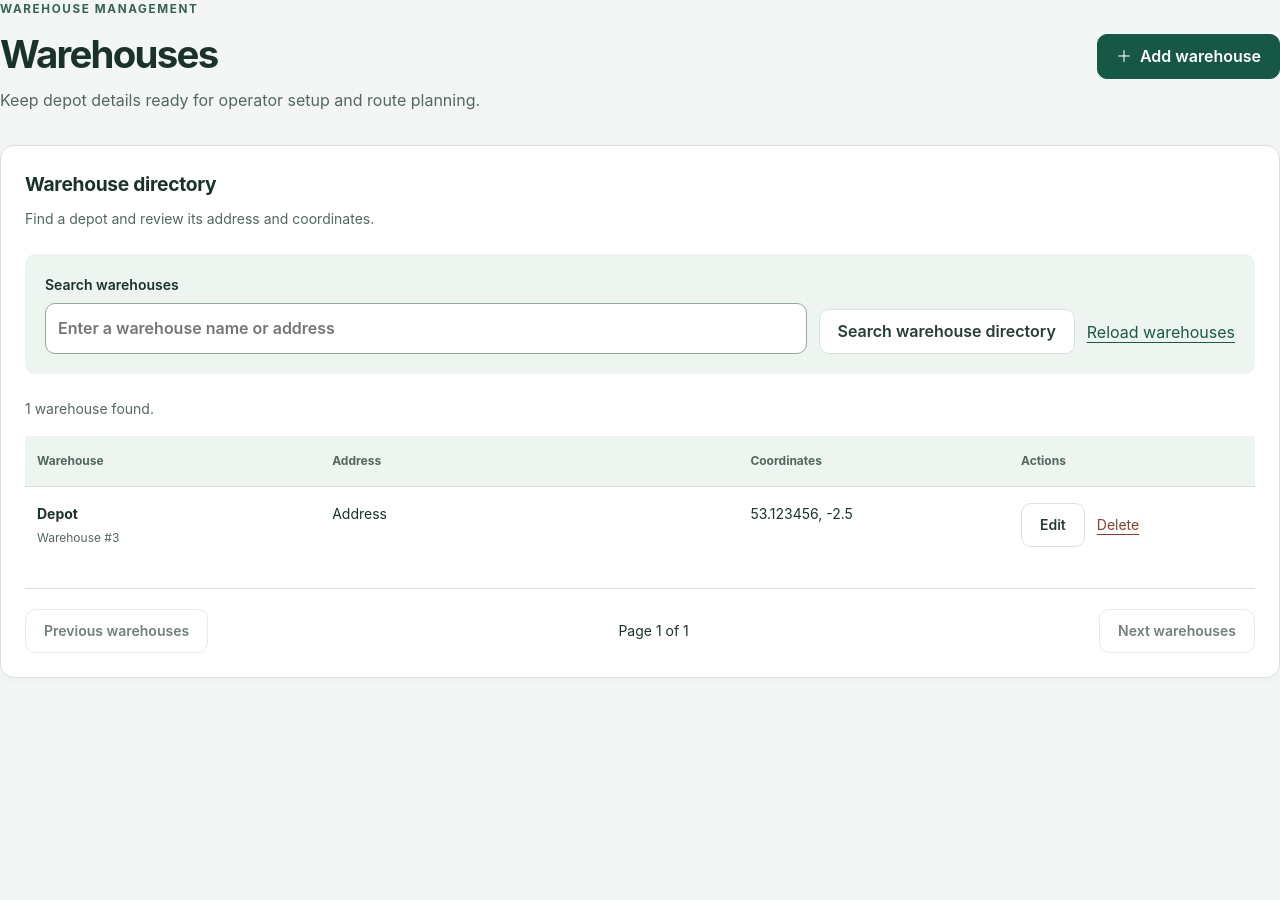
Test case: warehouse workflow › creates with explicit coordinates and refreshes the directory
Check: the button with aria-label "Edit warehouse #3" is shown, box left=1021, top=503, right=1085, bottom=547
Click the button "＋ Add warehouse" at (1188, 56), box left=1097, top=34, right=1279, bottom=79
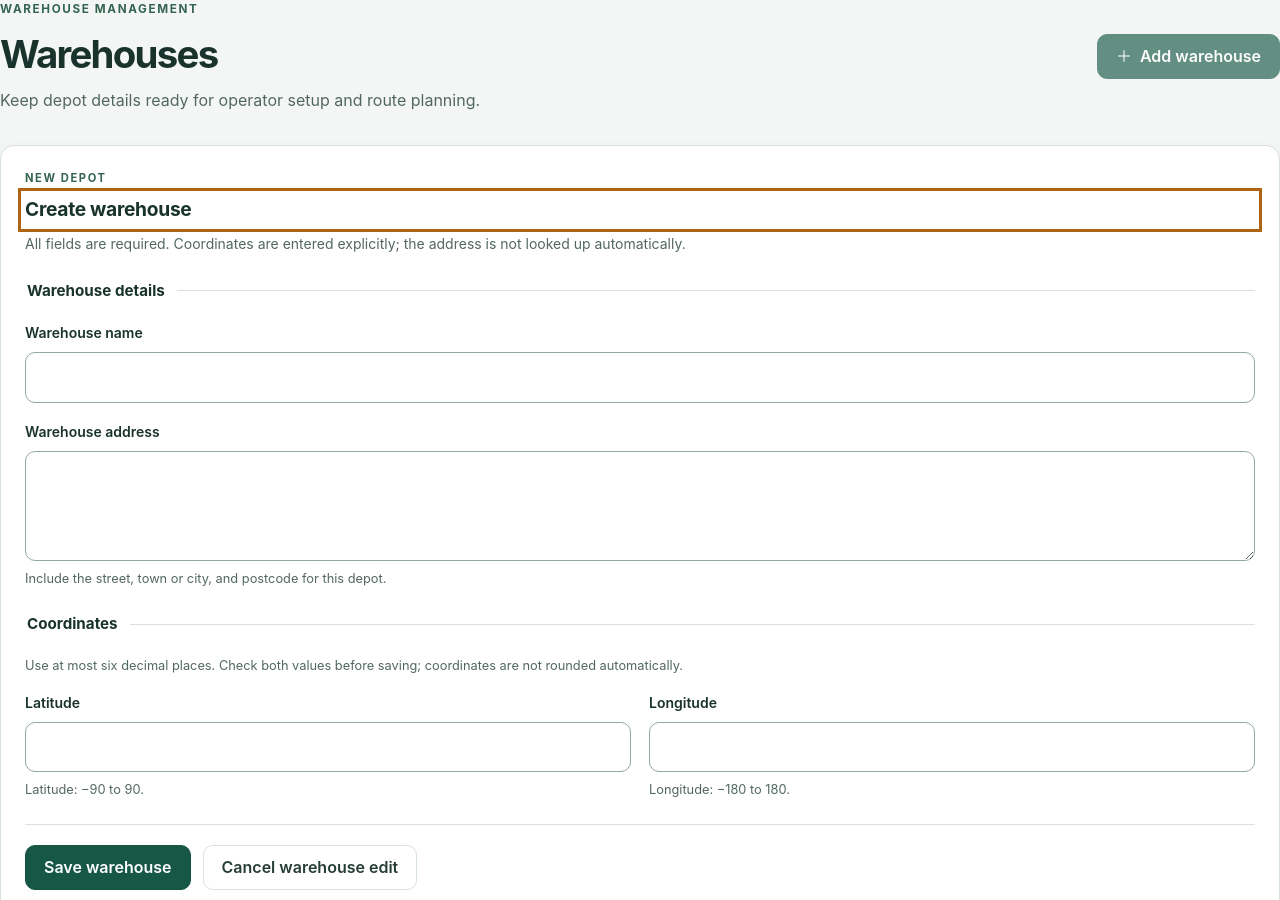
Type "New depot" into the field labelled "Warehouse name" at (640, 378), box left=25, top=352, right=1255, bottom=403
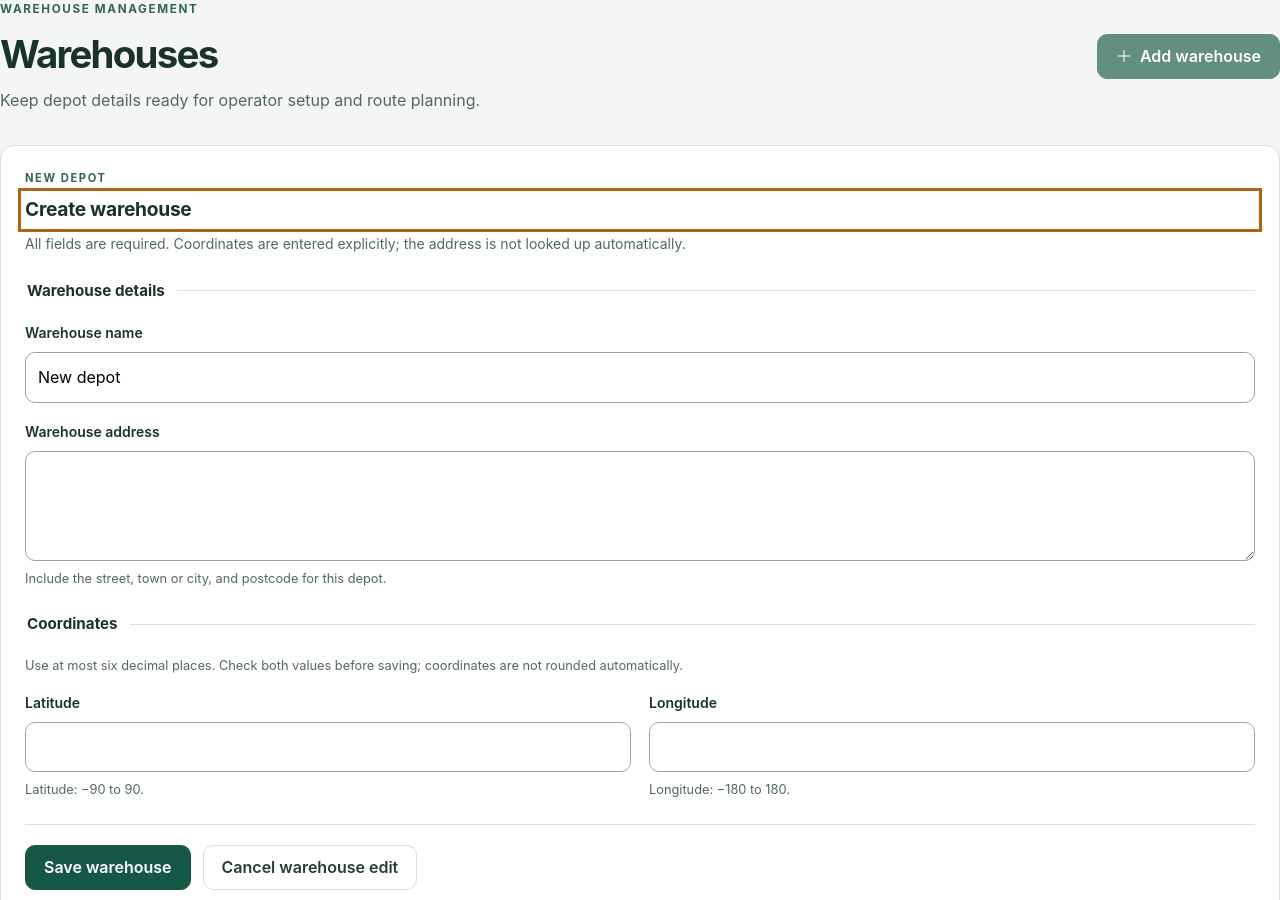
Type "New address" into the text box labelled "Warehouse address" at (640, 506), box left=25, top=451, right=1255, bottom=561
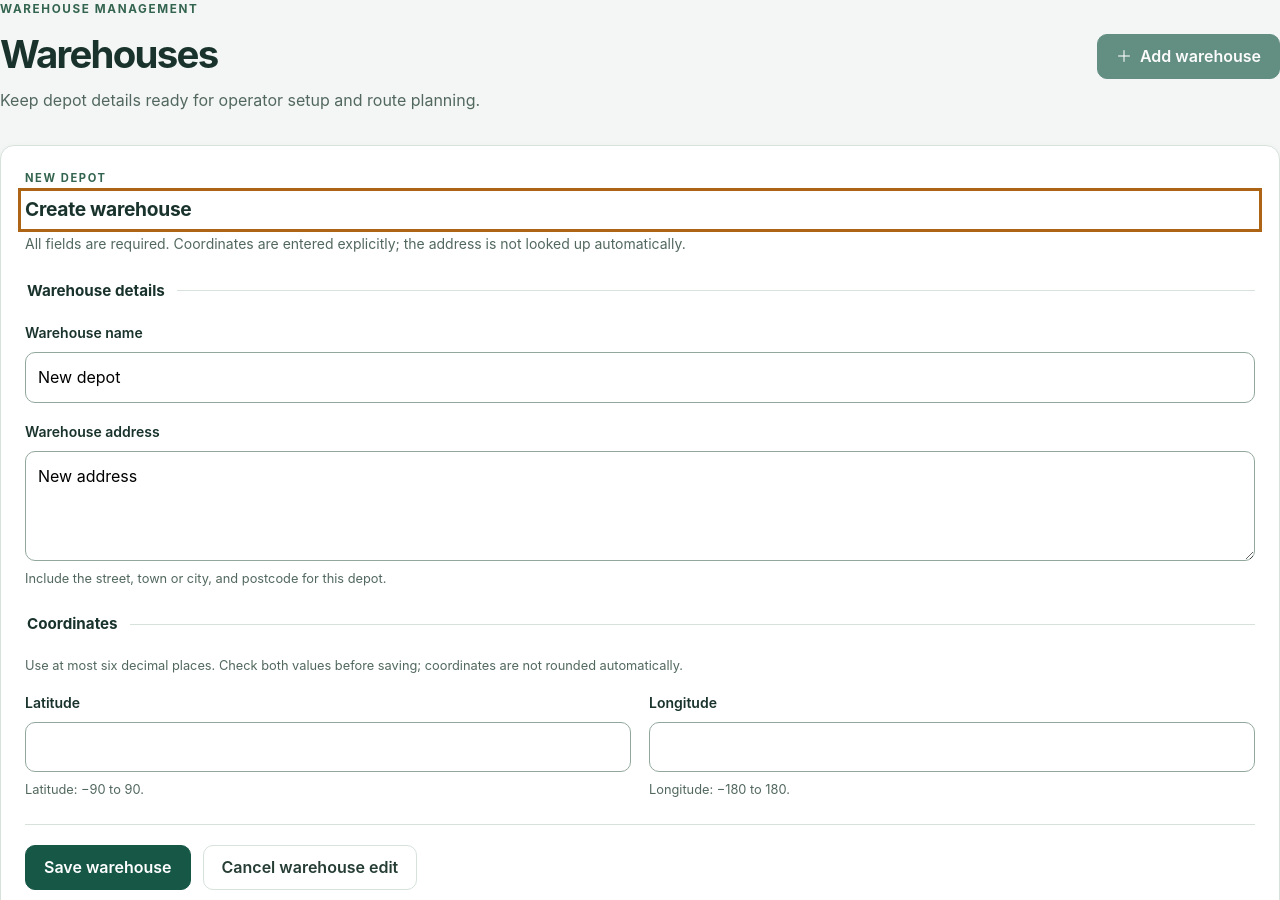
Type "0" into the number field labelled "Latitude" at (328, 747), box left=25, top=722, right=631, bottom=772
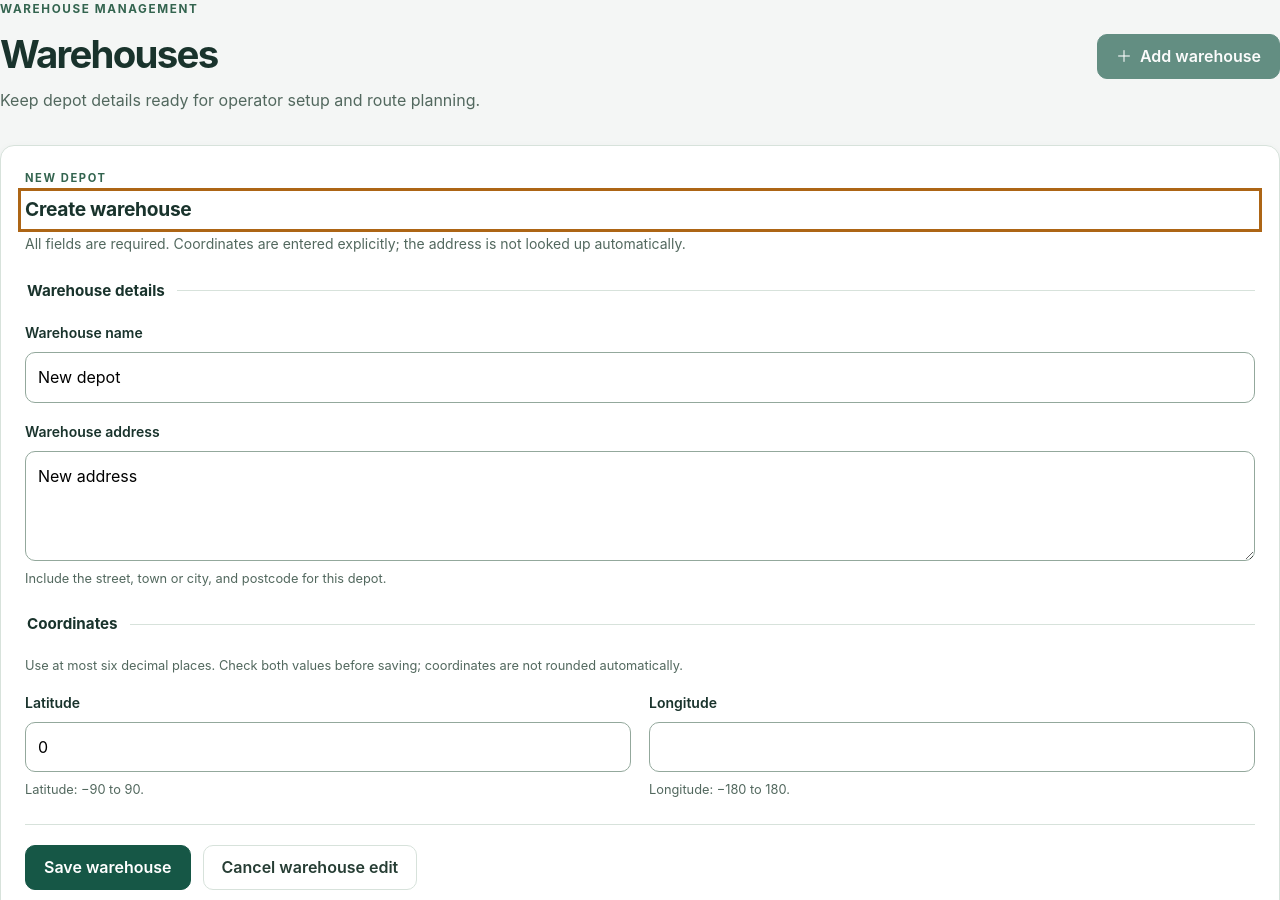
Type "180" into the number field labelled "Longitude" at (952, 747), box left=649, top=722, right=1255, bottom=772
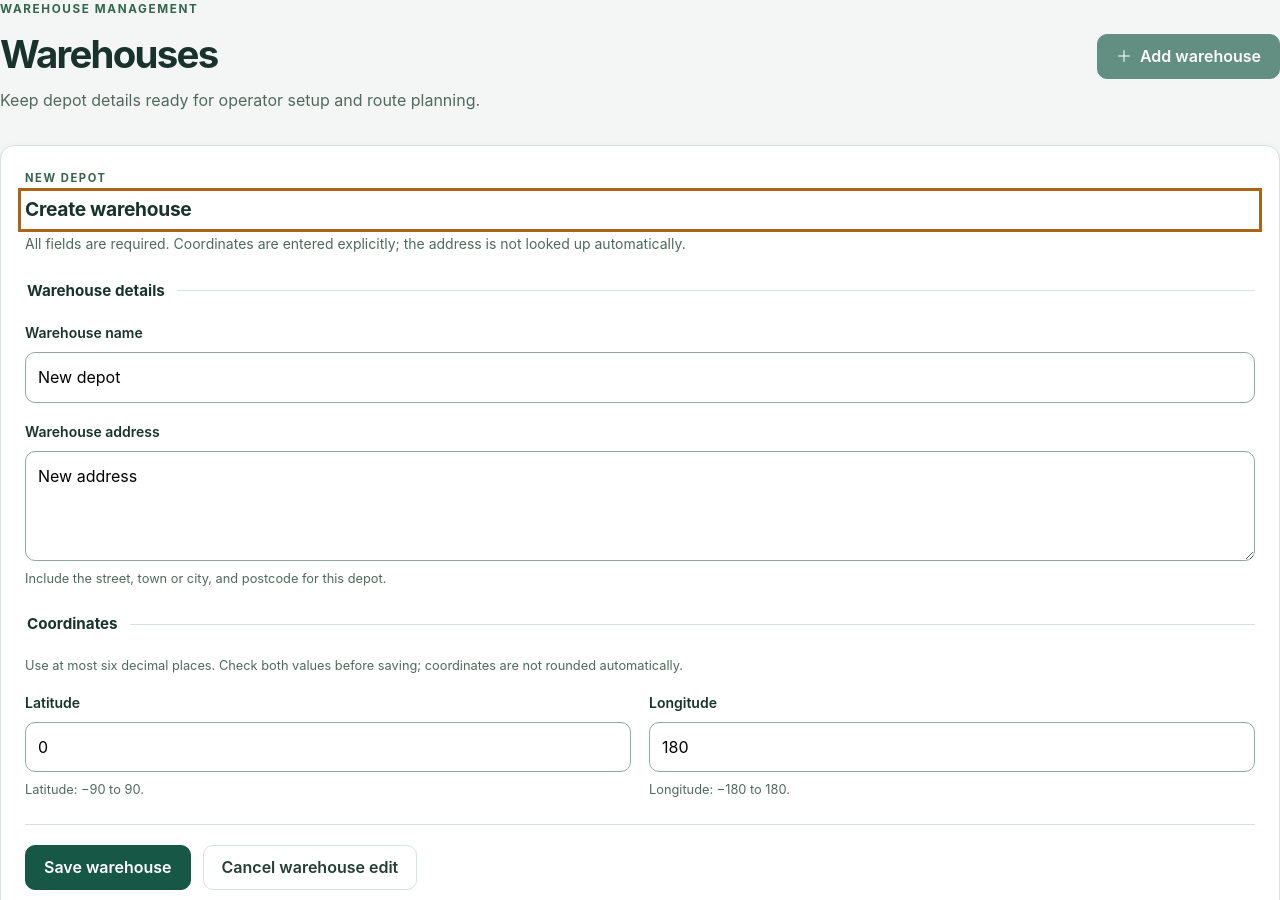
Submit the form named "Save warehouse"
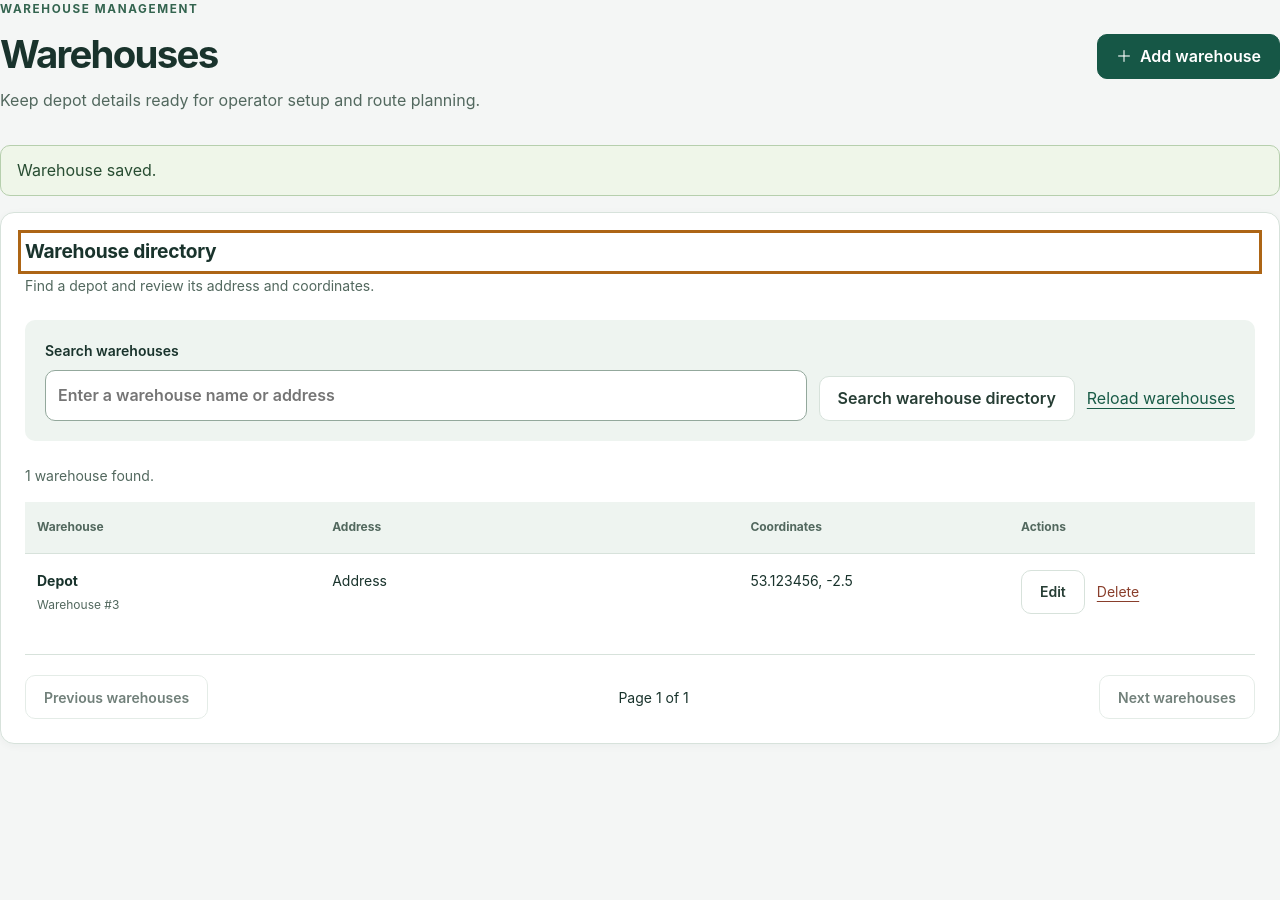
Check: the text "Warehouse saved." is shown, box left=0, top=145, right=1279, bottom=196
